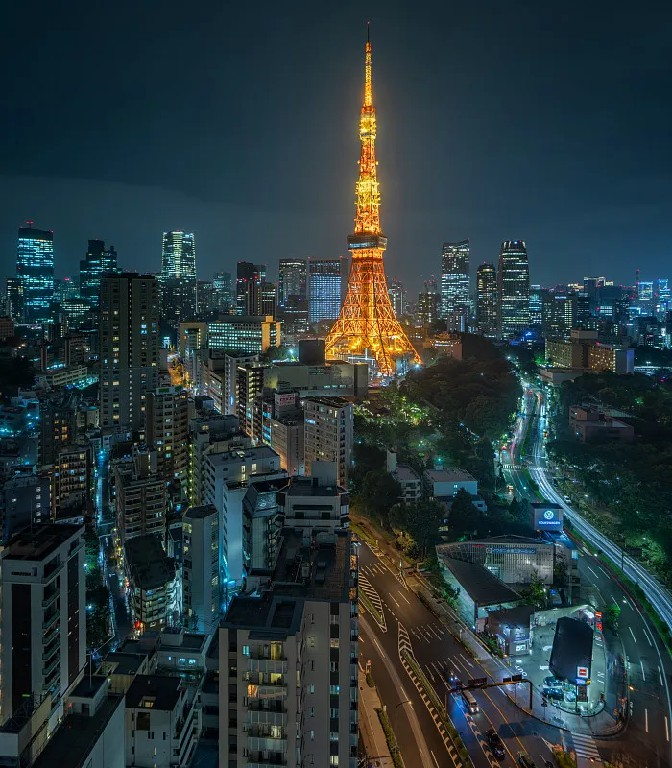Tokyo: (325, 16, 424, 377)
